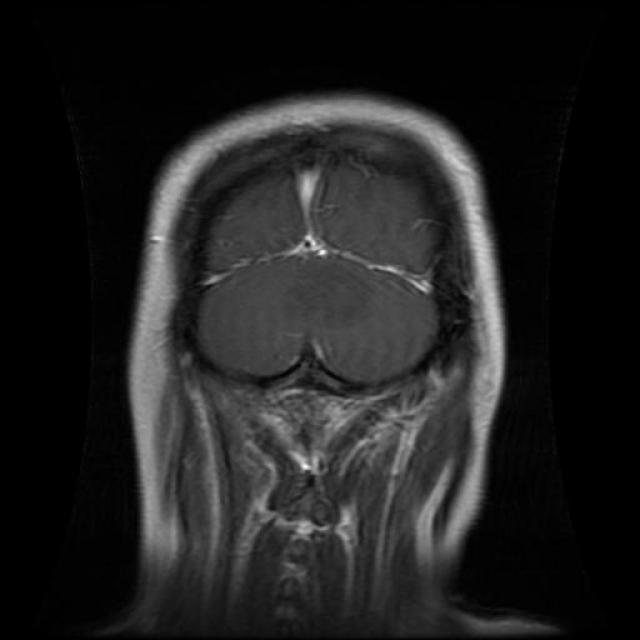glioma: (203, 161, 403, 314)
